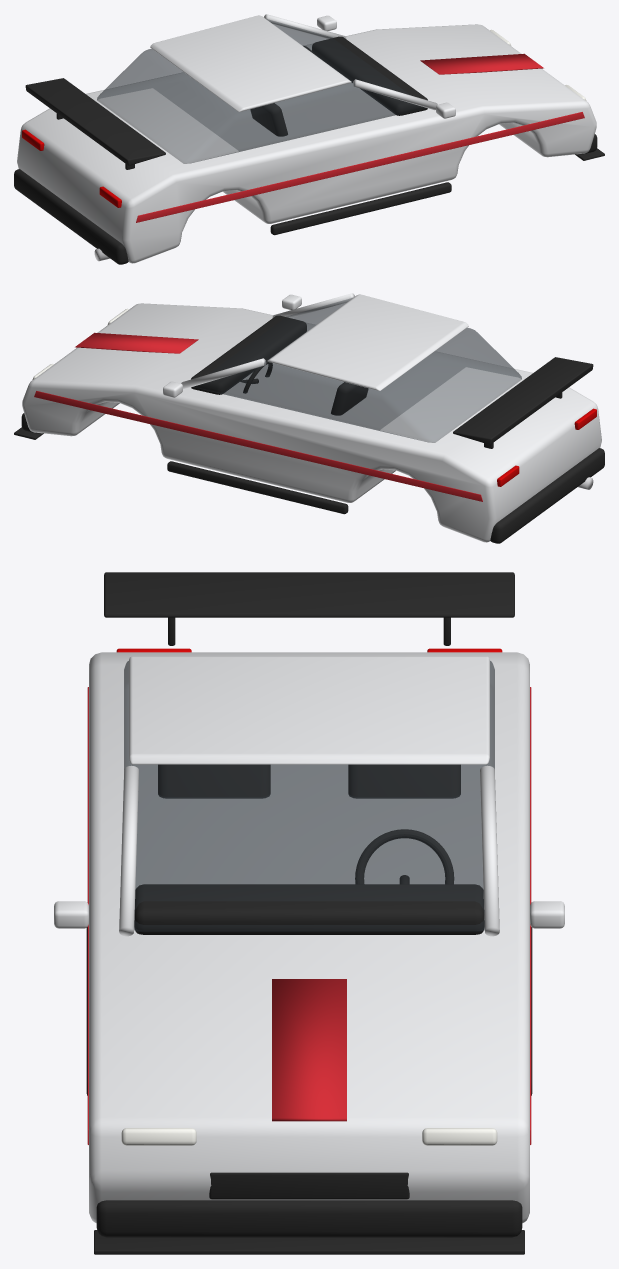
Rendered from DRIFTGT_Carrozzeria.glb.
3 views of the same model, one above another, from view 1: azimuth 30°, elevation 25°; view 2: azimuth 150°, elevation 25°; view 3: azimuth 270°, elevation 25° (orthographic). The views are drawn at different scales.
Parts seen in each view (by area): view 1: DRIFTGT_Carrozzeria; view 2: DRIFTGT_Carrozzeria; view 3: DRIFTGT_Carrozzeria.
Part boxes in pixels (x1,y1,x2,y2): DRIFTGT_Carrozzeria: (14, 14, 604, 264); DRIFTGT_Carrozzeria: (14, 293, 604, 543); DRIFTGT_Carrozzeria: (54, 572, 564, 1254).
Bounding box in the file's own units: 4.5 × 1.14 × 2.04.
